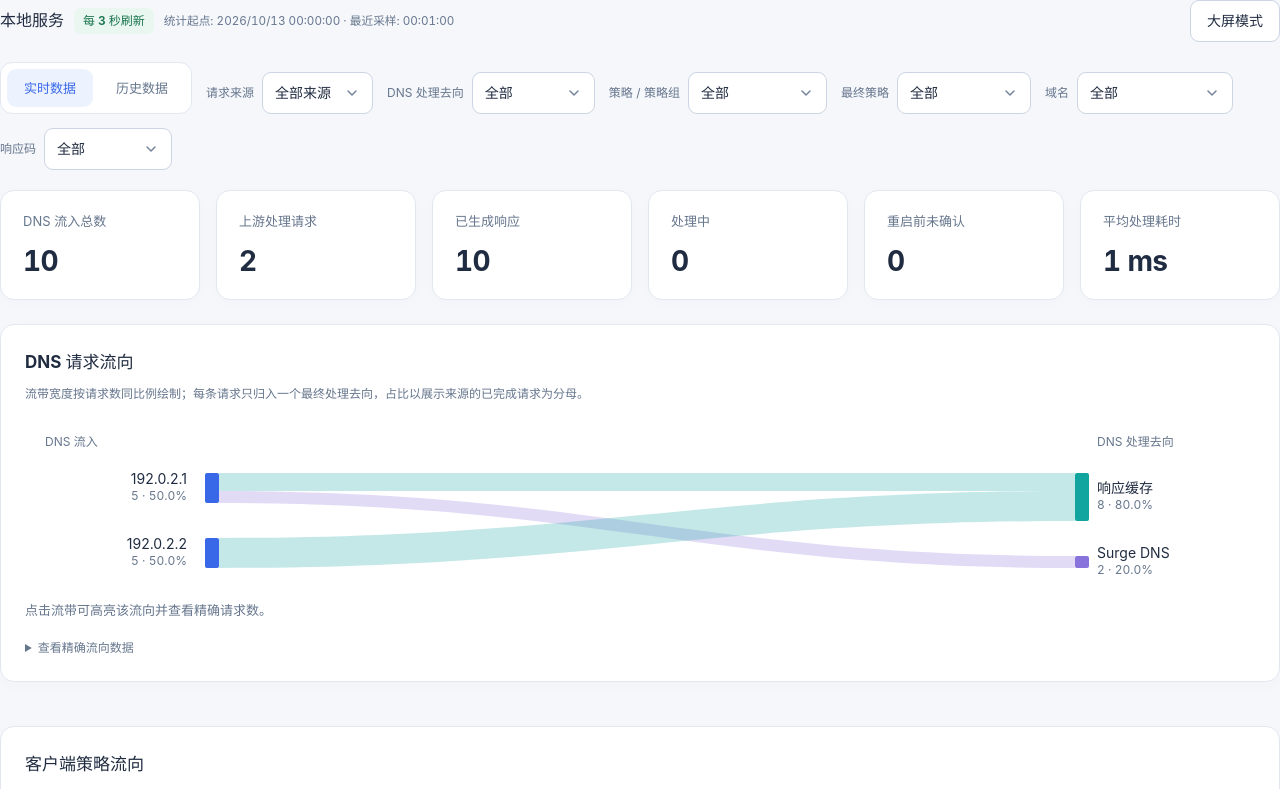
Test: reports unavailable old historical dimensions without discarding working live statistics
Select "private.example" in the dropdown labelled "域名". click: (1155, 93)
box: [1077,72,1233,114]
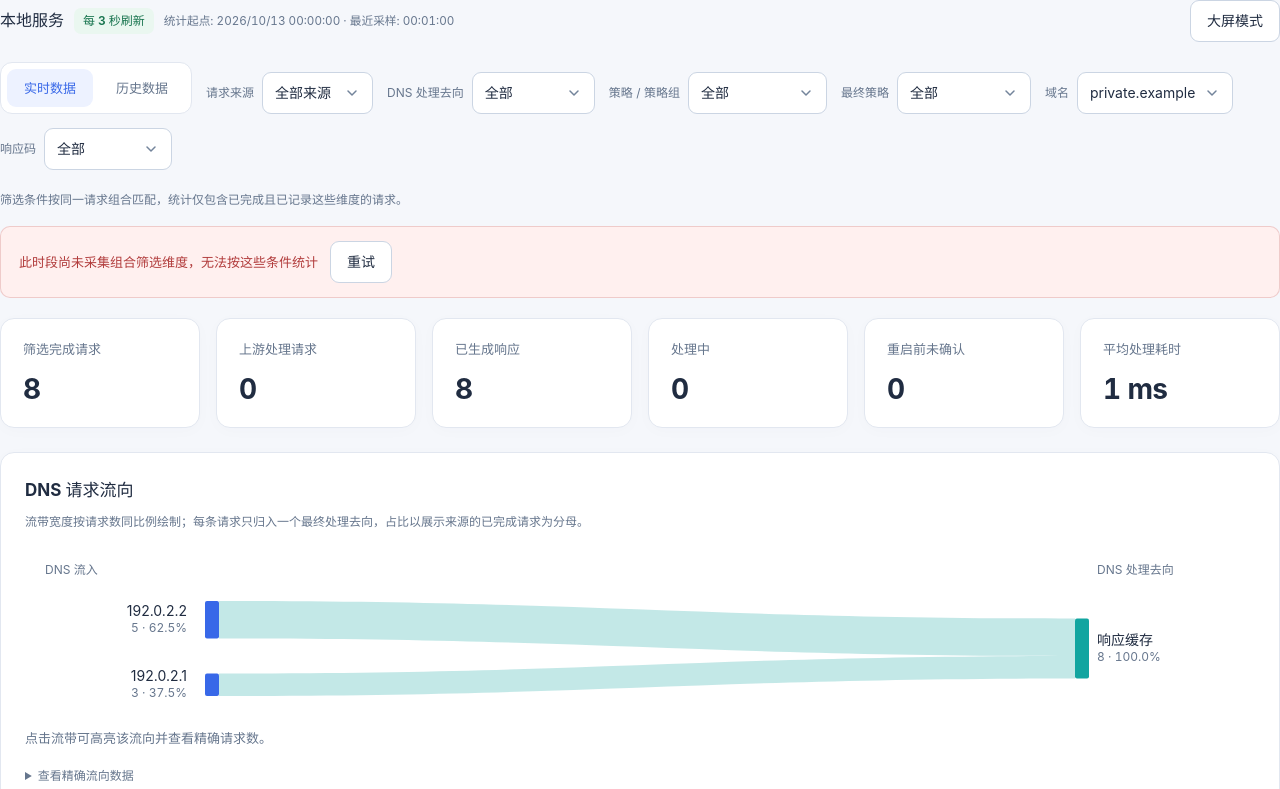
Now the message shows "此时段尚未采集组合筛选维度", box [19,254,318,270]
Click the button "历史数据". click: (142, 88)
box: [99,69,185,107]
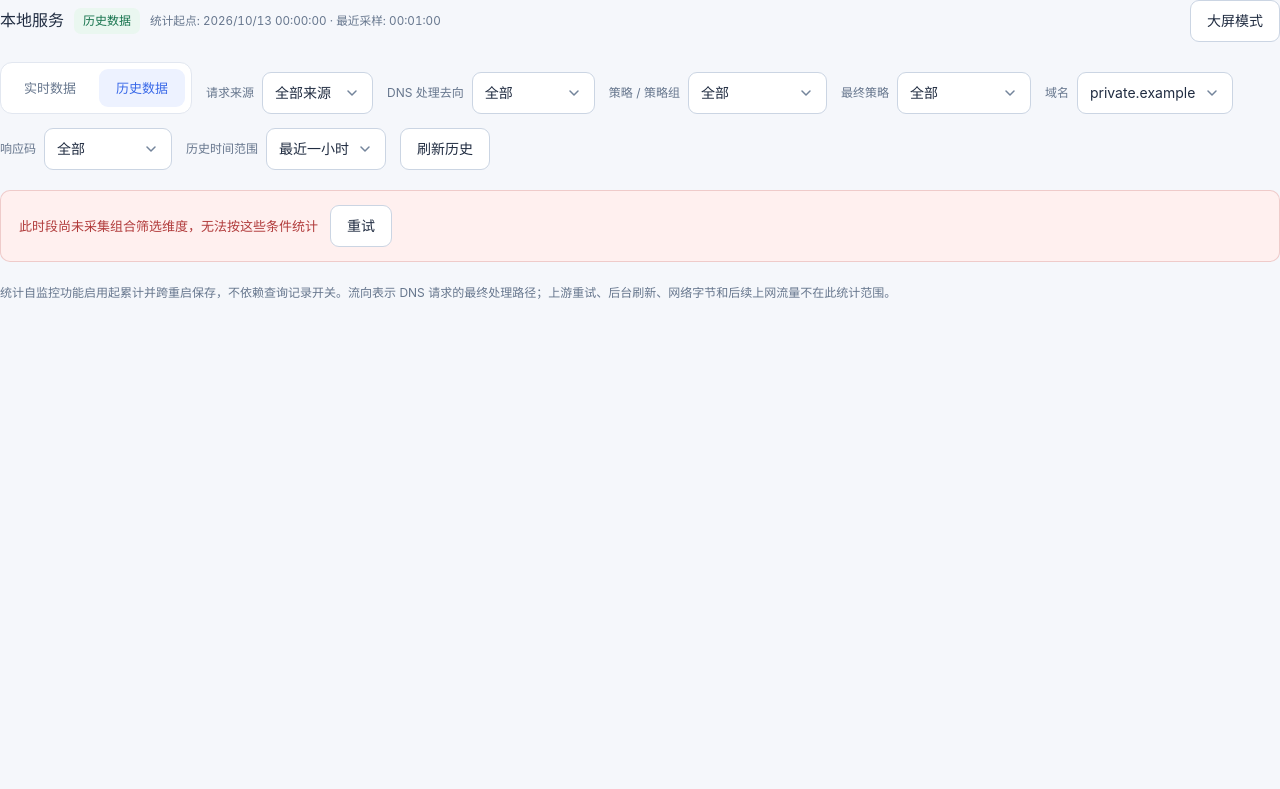
Now the message shows "无法按这些条件统计", box [19,218,318,234]
Now the element with class "monitor-metrics" is gone
